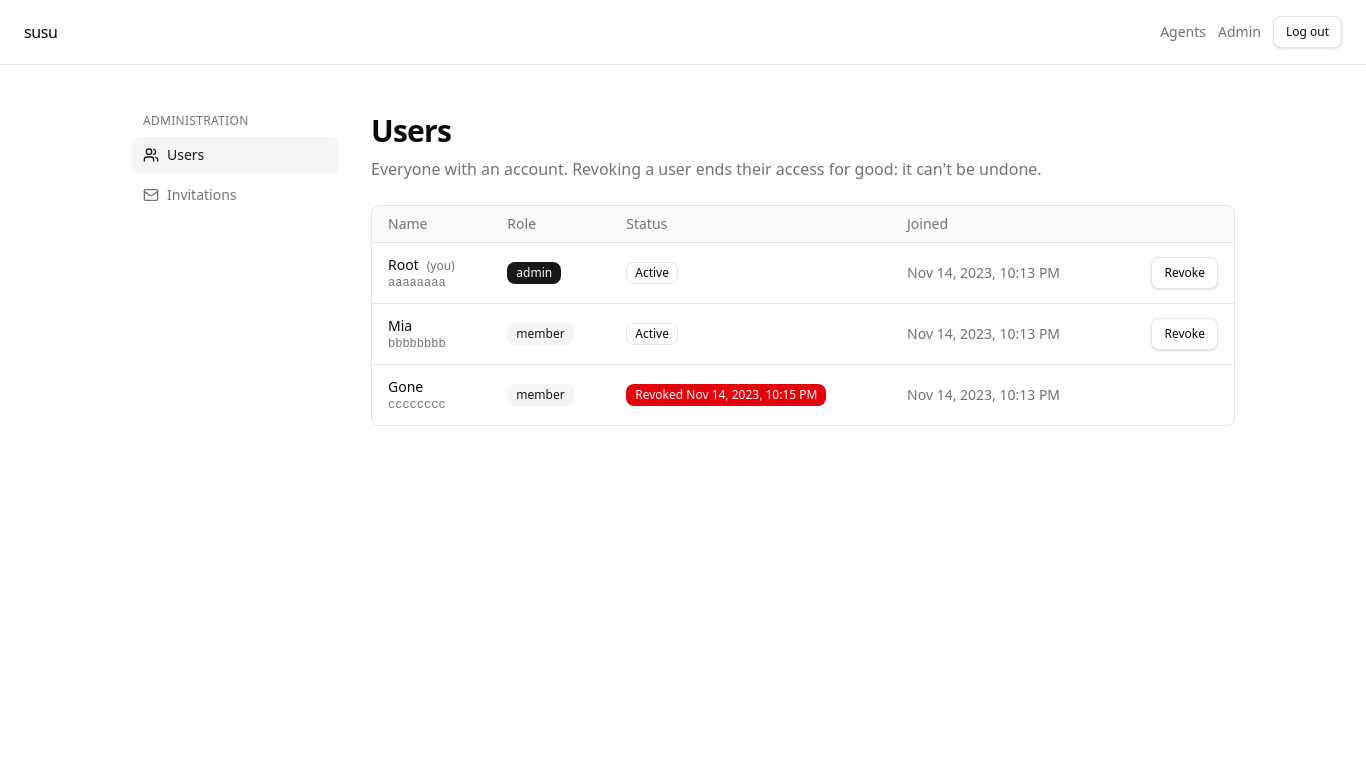
Scenario: users › revoking asks first, then marks the user revoked
Click the button with aria-label "Revoke Mia" at (1185, 334), box 1152,318 -> 1218,350
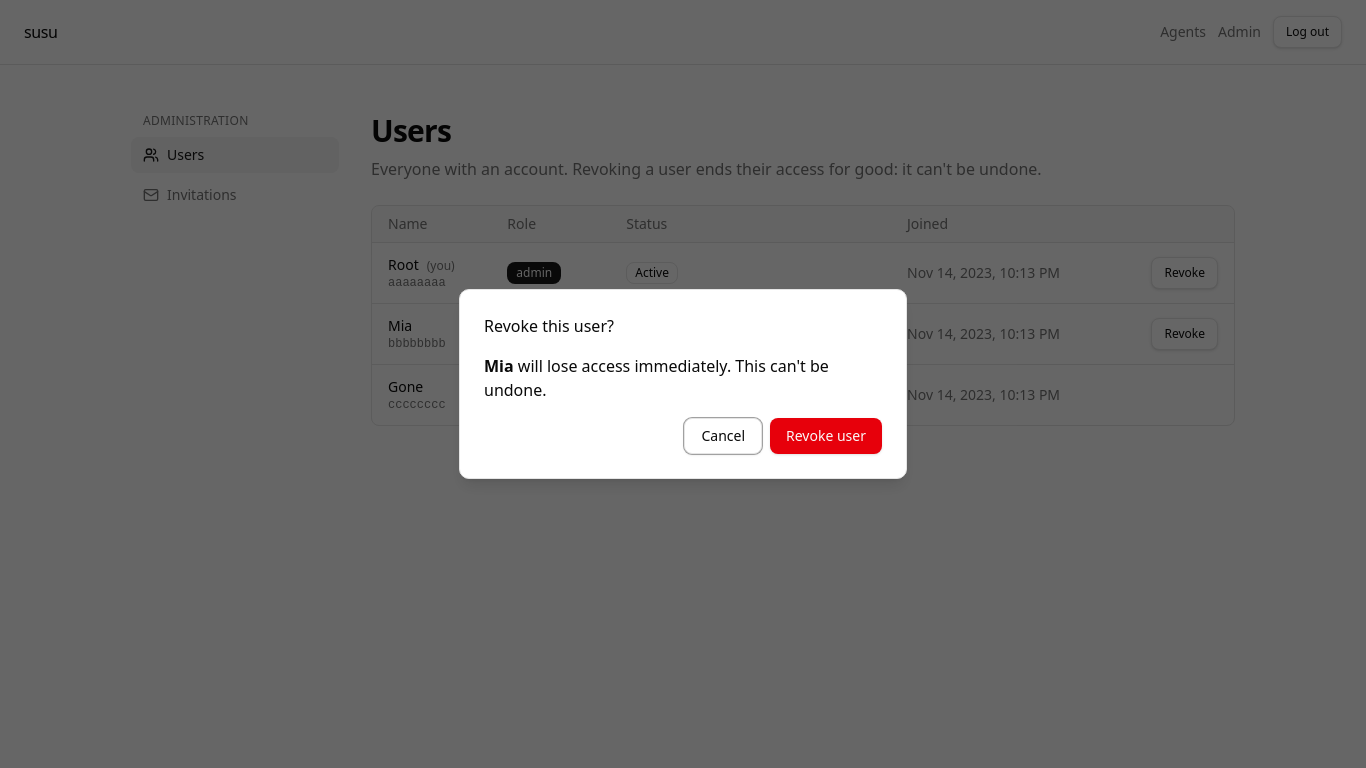
Expected: the dialog "Revoke this user?" shows "Mia will lose access", 459,289 -> 907,479
Click the button "Revoke user" at (826, 436), box 770,418 -> 882,454
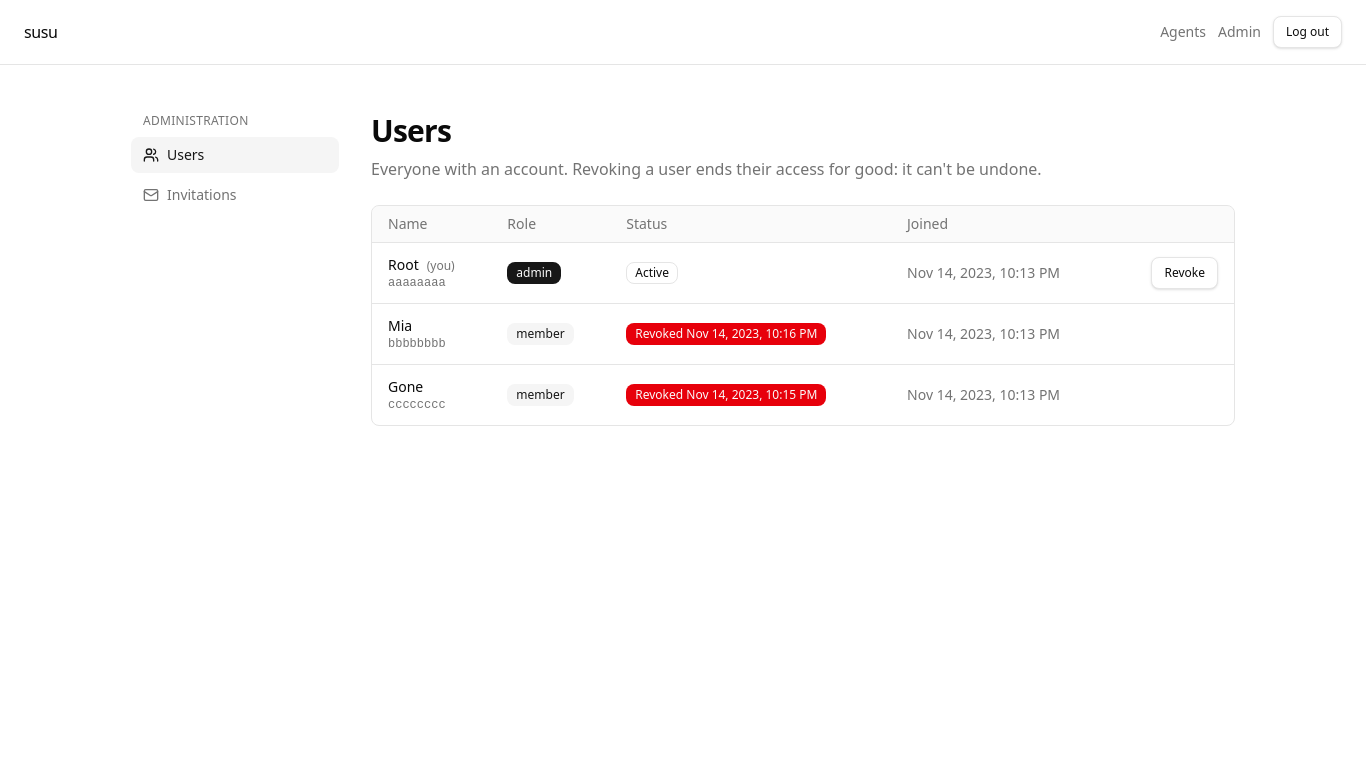
Expected: the dialog is gone
